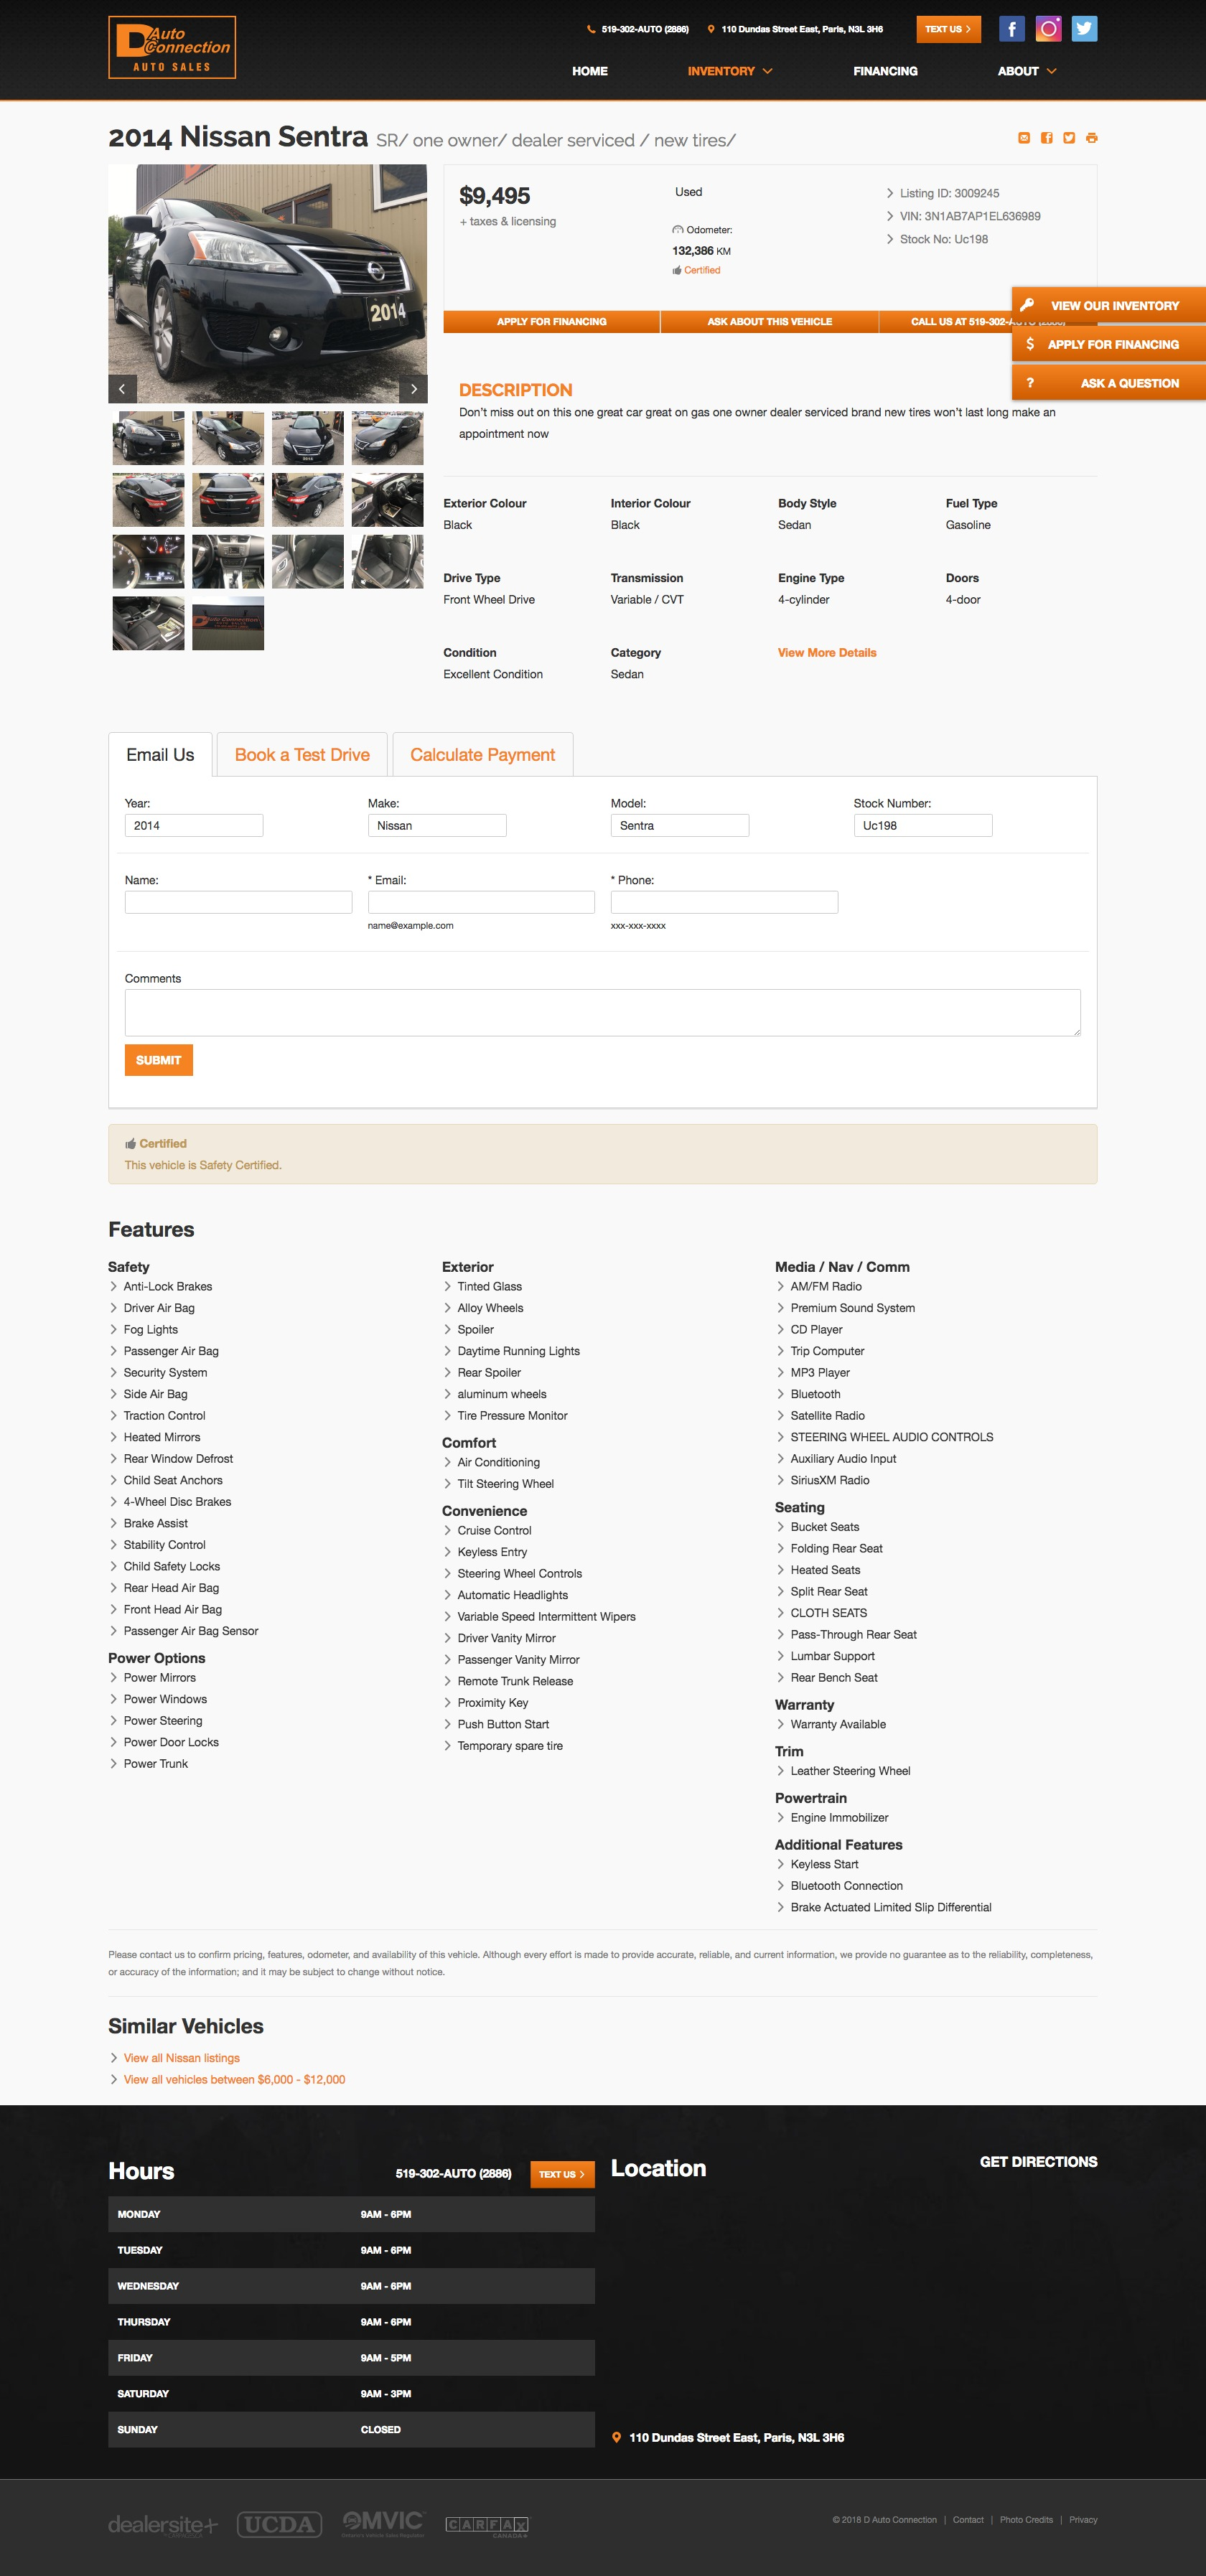car: (399, 375, 429, 404)
